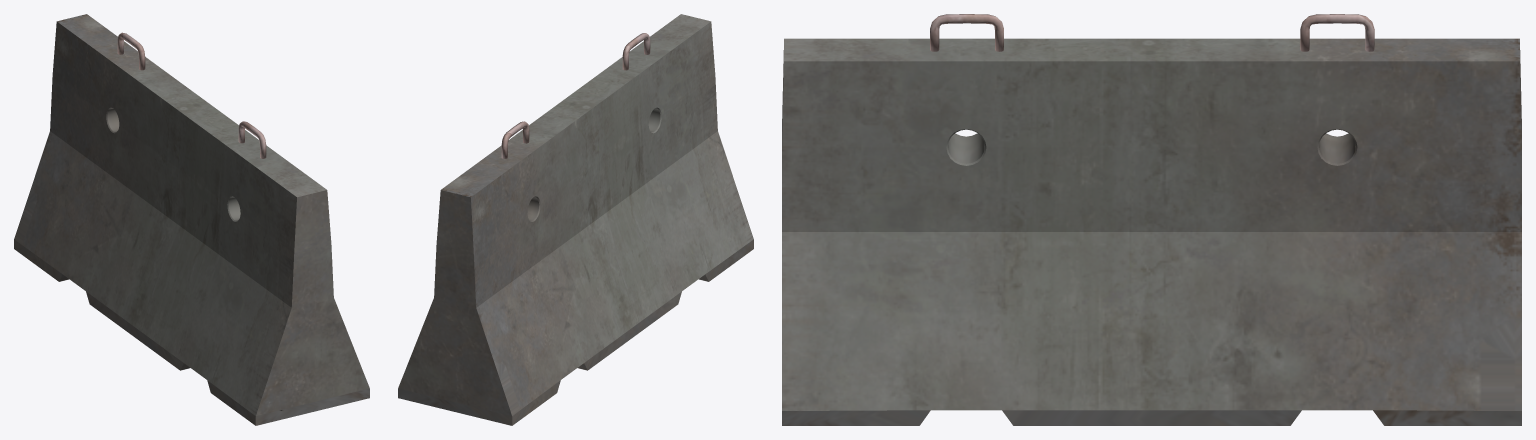
The model's file is Barrier.fbx.
3 views of the same model, side by side, from view 1: azimuth 30°, elevation 25°; view 2: azimuth 150°, elevation 25°; view 3: azimuth 270°, elevation 25° (orthographic). The views are drawn at different scales.
Visible parts, largest first — view 1: Barrier; view 2: Barrier; view 3: Barrier.
Boxes of the visible parts, left/top/right/bottom form: Barrier: left=14, top=14, right=369, bottom=425; Barrier: left=398, top=14, right=753, bottom=425; Barrier: left=782, top=14, right=1521, bottom=425.
Bounding box in the file's own units: 54.38 × 110 × 199.
